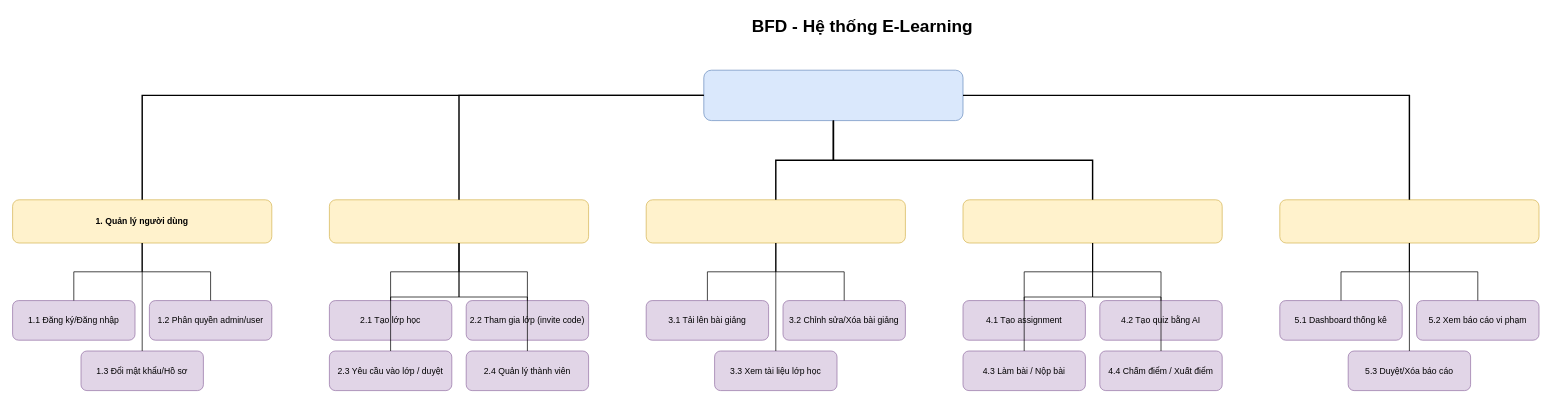
This 1552x403 diagram has some shape labels left out. The shapes that lost their labels are listed below. From the top down, each one's centre as x and y in pixels, then its label:
At [833,95]: "0. Hệ thống E-Learning".
At [459,221]: "2. Quản lý lớp học".
At [775,221]: "3. Quản lý nội dung học tập".
At [1092,221]: "4. Quản lý bài tập và quiz".
At [1409,221]: "5. Quản trị và báo cáo".
